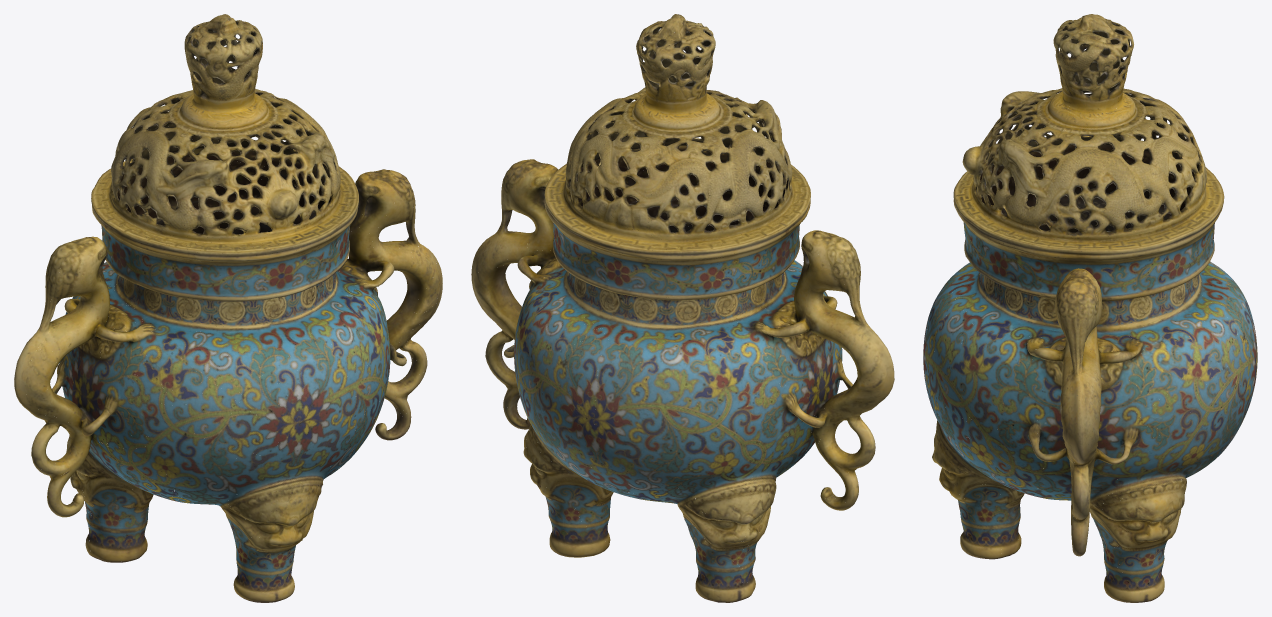
The model's file is ding-censer-with-an-openwork-cover.glb.
The picture shows the model from 3 angles, left to right: view 1: azimuth 30°, elevation 25°; view 2: azimuth 150°, elevation 25°; view 3: azimuth 270°, elevation 25°; orthographic projection.
Parts seen in each view (by area): view 1: Mesh (2); view 2: Mesh (2); view 3: Mesh (2).
Boxes of the visible parts, box(x1,y1,x2,y2) form: Mesh (2): box(14, 14, 442, 602); Mesh (2): box(471, 14, 894, 602); Mesh (2): box(923, 14, 1257, 602).
Size of the model in its own units: 0.2252 by 0.2718 by 0.1523.
1 material, 1 textured.
